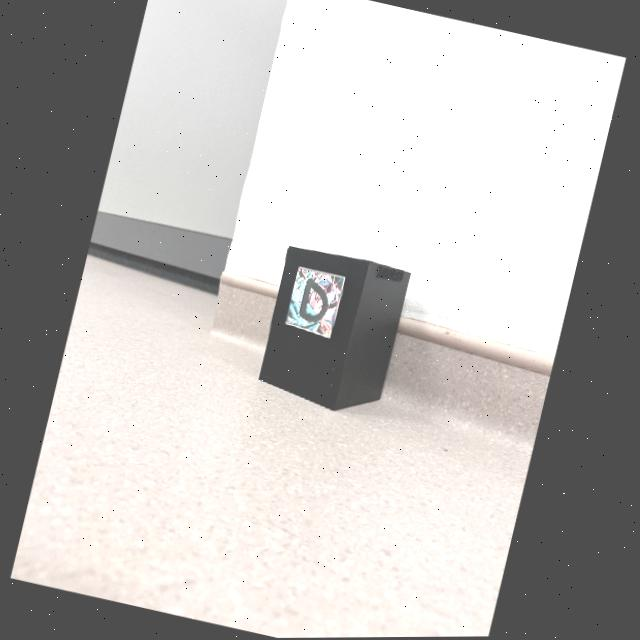D: (300, 280, 328, 323)
